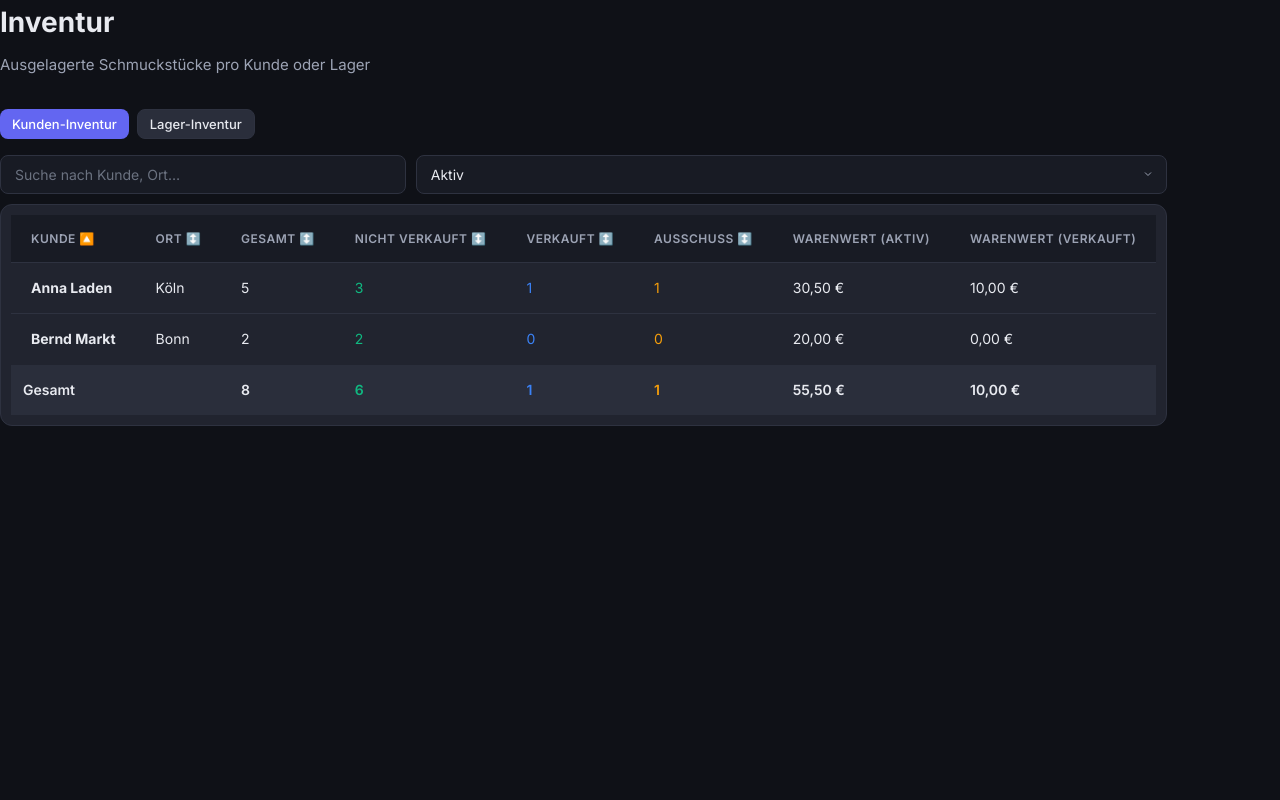
Test case: Kunden-Detail › lagert die ausgewählten Artikel nach Bestätigung zurück und lädt die Übersicht neu
The width and height of the screenshot is (1280, 800).
Click the text "Anna Laden" at coordinates (72, 288), box [31,279,112,296]
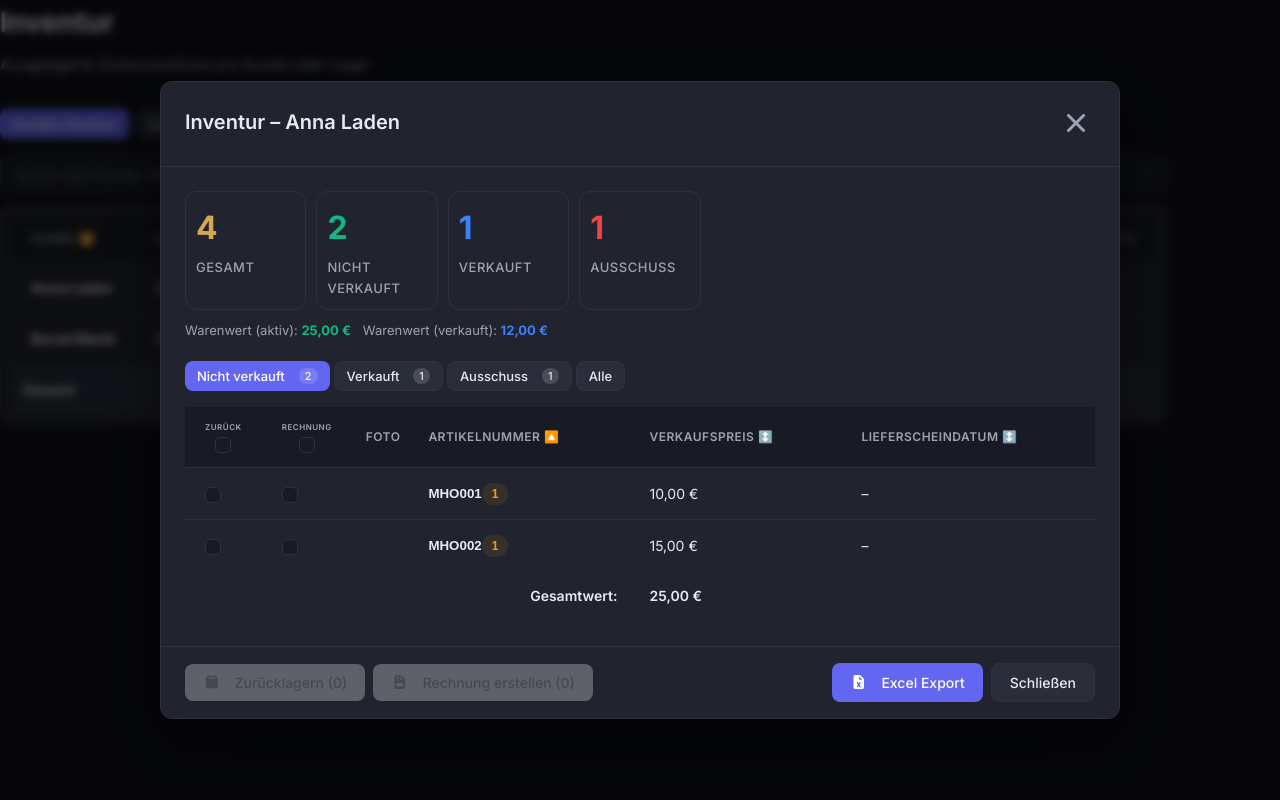
Now the heading "Inventur – Anna Laden" is shown, box [185,106,400,138]
Now the text "MHO001" is shown, box [428,486,482,501]
Now the button "Zurücklagern (0)" is disabled, box [185,664,365,701]
Click the checkbox titled "Alle auswählen" at coordinates (223, 445), box [215,437,231,453]
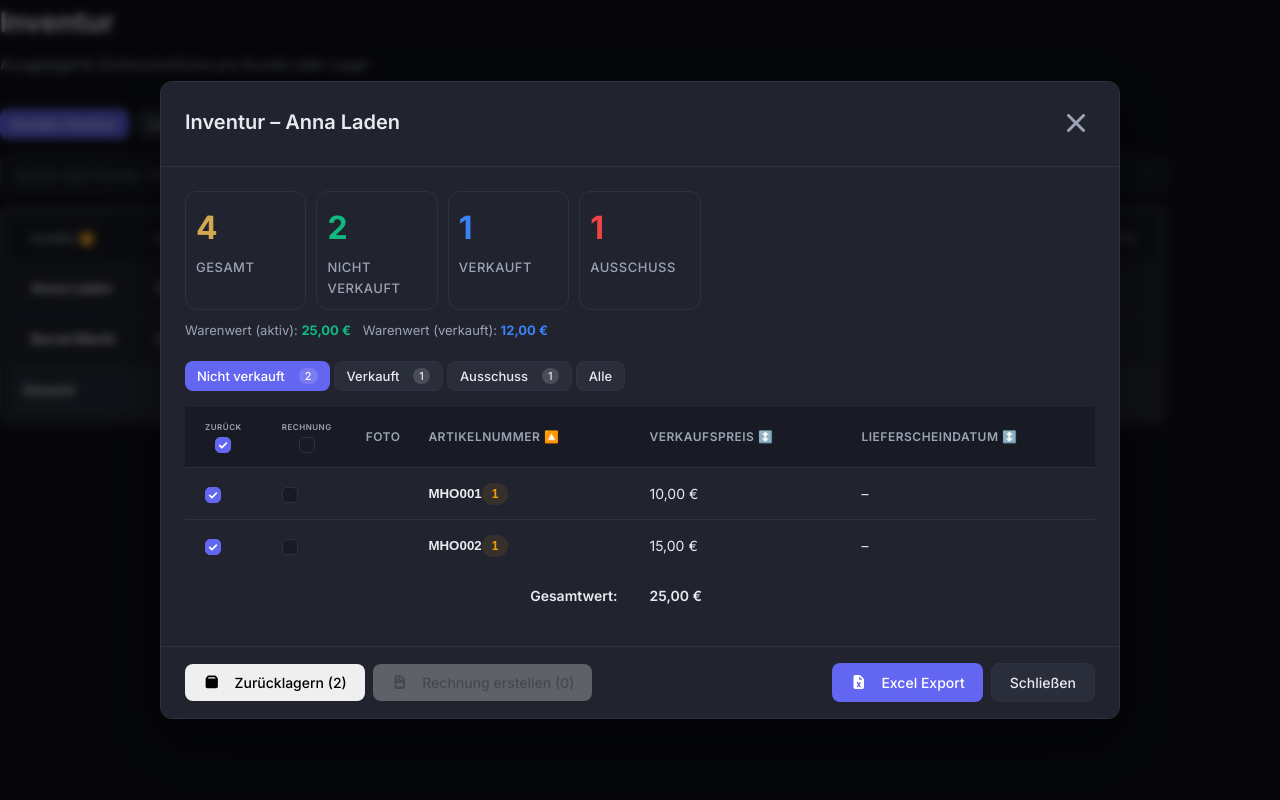
Click the button "Zurücklagern (2)" at coordinates (275, 682), box [185,664,365,701]
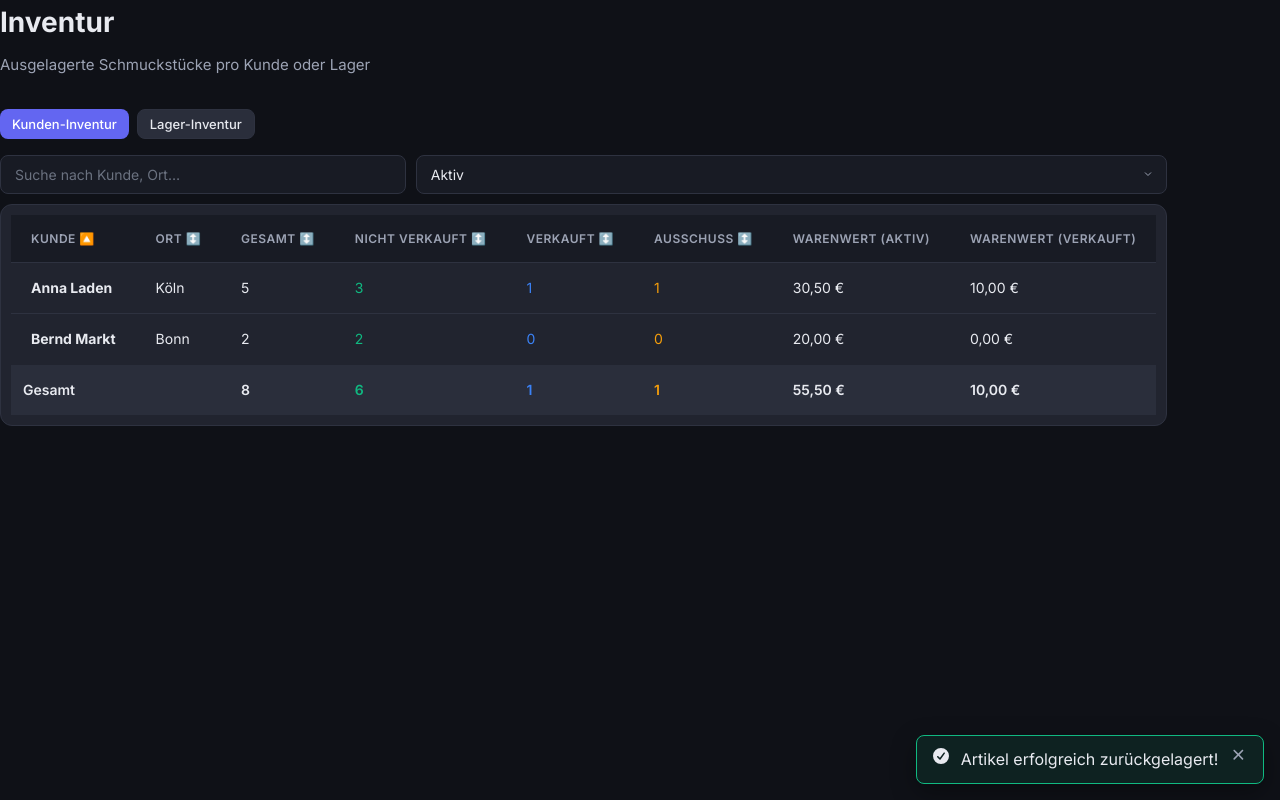
Now the text "Artikel erfolgreich zurückgelagert!" is shown, box [961,748,1218,771]
Now the heading "Inventur – Anna Laden" is gone
